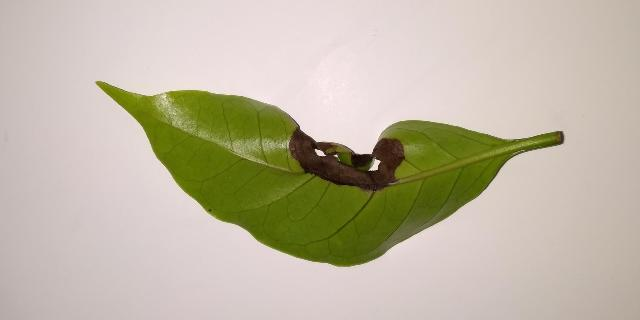rust: (289, 118, 404, 192)
